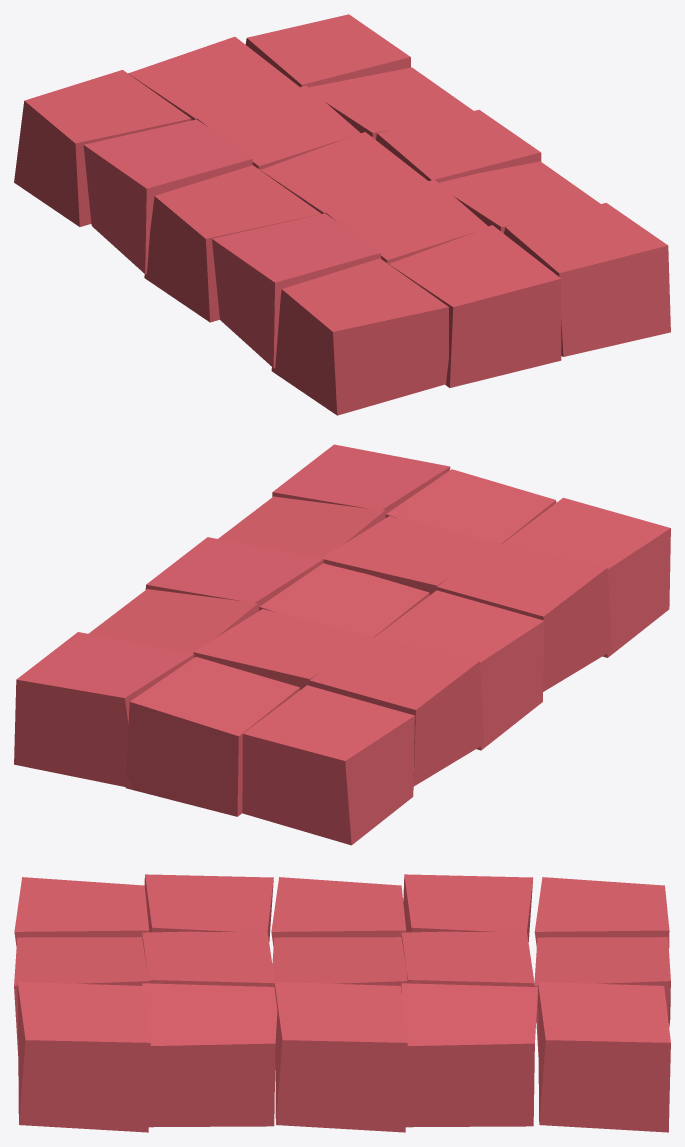
The model's file is WolfdenBridge.fbx.
3 renders of one model, top to bottom at view 1: azimuth 30°, elevation 25°; view 2: azimuth 150°, elevation 25°; view 3: azimuth 270°, elevation 25°, orthographic.
Parts seen in each view (by area): view 1: Cube.072, Cube.061, Cube.062, Cube.030, Cube.064; view 2: Cube.061, Cube.030, Cube.064, Cube.062, Cube.072; view 3: Cube.061, Cube.072, Cube.062, Cube.030, Cube.064.
Boxes of the visible parts, left/top/right/bottom form: Cube.072: left=271, top=203, right=670, bottom=415; Cube.061: left=14, top=14, right=410, bottom=226; Cube.062: left=144, top=109, right=541, bottom=322; Cube.030: left=83, top=67, right=473, bottom=274; Cube.064: left=212, top=161, right=600, bottom=368; Cube.061: left=14, top=632, right=414, bottom=845; Cube.030: left=88, top=589, right=484, bottom=786; Cube.064: left=218, top=496, right=611, bottom=691; Cube.062: left=145, top=537, right=544, bottom=750; Cube.072: left=272, top=444, right=670, bottom=657; Cube.061: left=534, top=877, right=670, bottom=1132; Cube.072: left=14, top=877, right=150, bottom=1132; Cube.062: left=271, top=877, right=407, bottom=1132; Cube.030: left=401, top=874, right=537, bottom=1127; Cube.064: left=142, top=874, right=277, bottom=1127.
Bounding box in the file's own units: 1060 × 278 × 1752.
